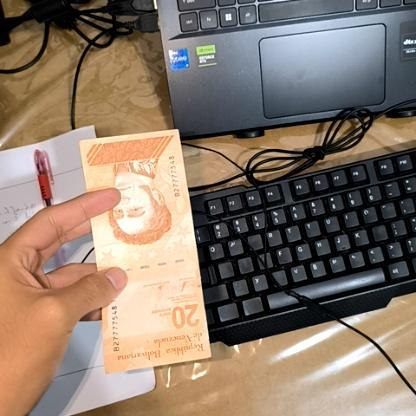twenty-front-vef: (78, 128, 210, 373)
